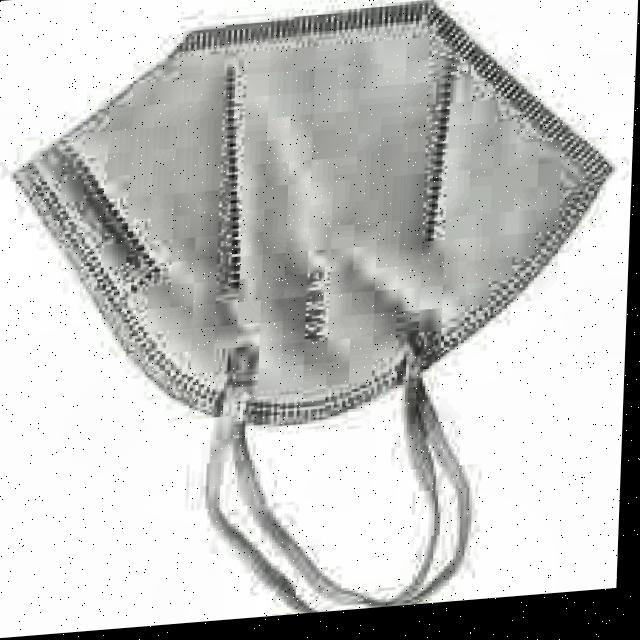trash: (2, 0, 624, 631)
